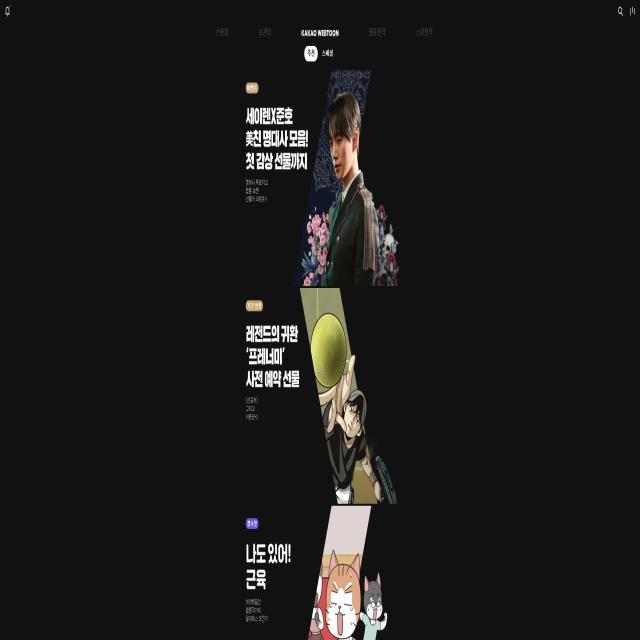search: (616, 3, 624, 18)
tab-bar: (214, 16, 436, 38), (303, 46, 335, 60)
